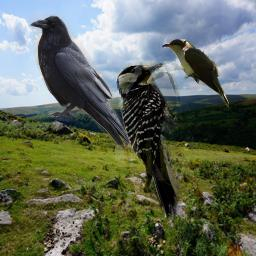Crow: (29, 14, 134, 151)
Cuckoo: (160, 39, 229, 108)
Woodpecker: (115, 62, 194, 224)
